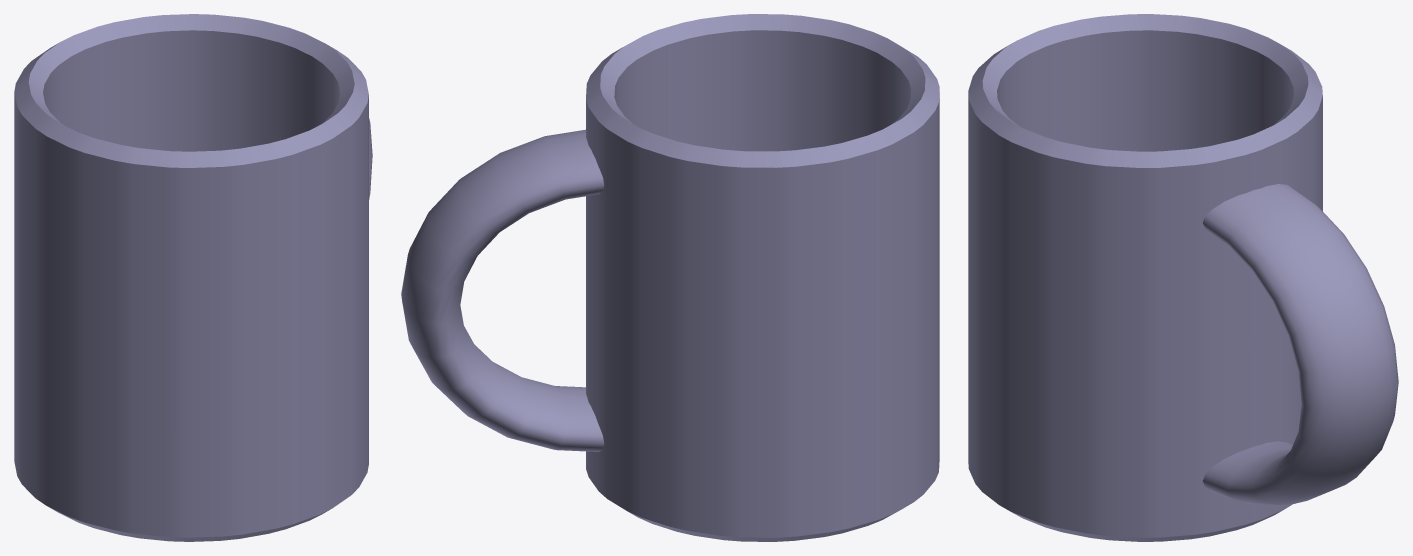
The model's file is colored mug2.fbx.
3 views of the same model, side by side, from view 1: azimuth 30°, elevation 25°; view 2: azimuth 150°, elevation 25°; view 3: azimuth 270°, elevation 25° (orthographic).
Visible parts, largest first — view 1: pasted__pCylinder4; view 2: pasted__pCylinder4; view 3: pasted__pCylinder4.
Part boxes in pixels (box(x1,y1,x2,y2)): pasted__pCylinder4: box(14, 14, 372, 541); pasted__pCylinder4: box(401, 14, 939, 541); pasted__pCylinder4: box(968, 14, 1398, 541).
Bounding box in the file's own units: 13.16 × 11.71 × 11.7.
